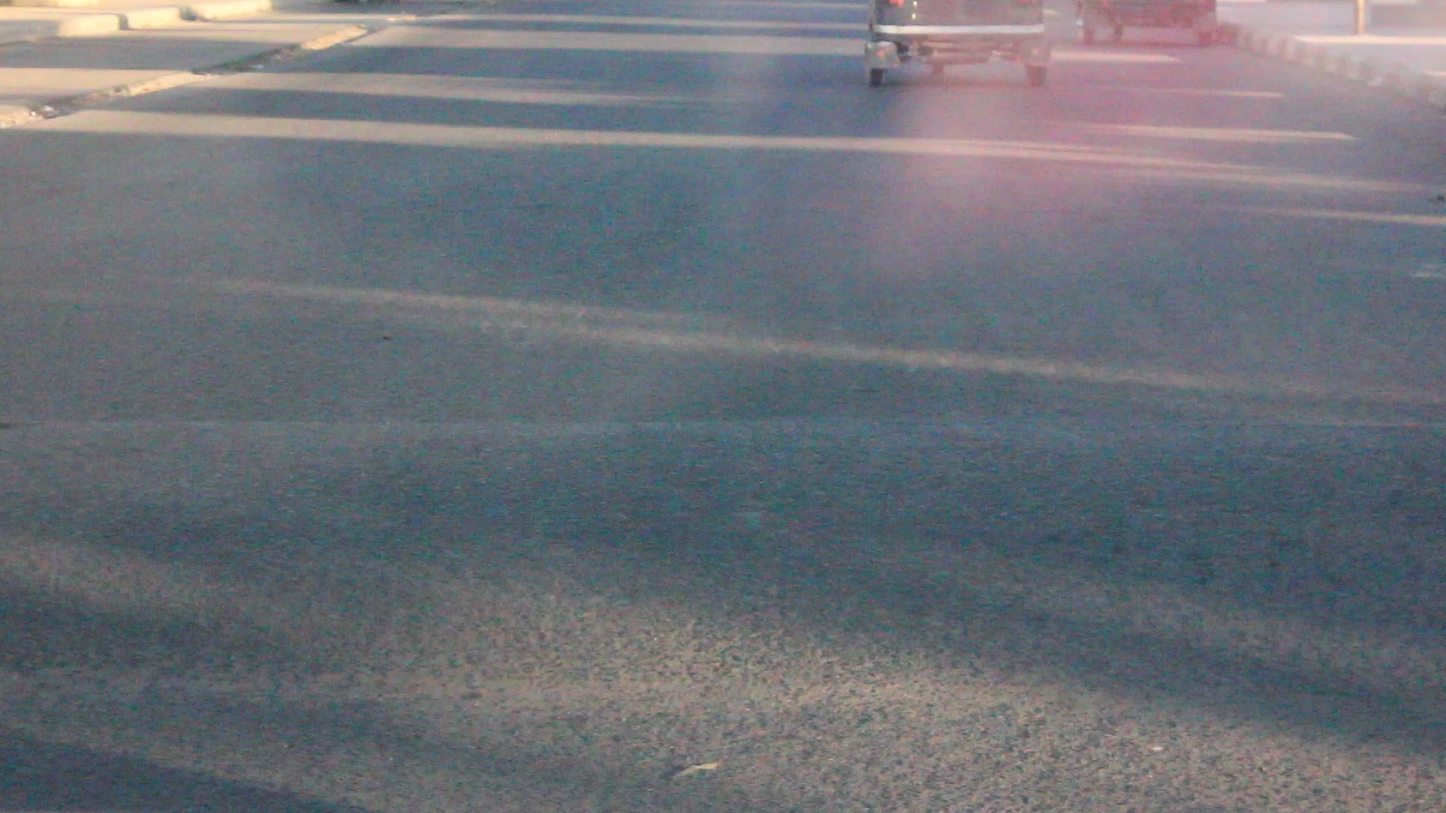Bump: (0, 410, 1446, 704)
